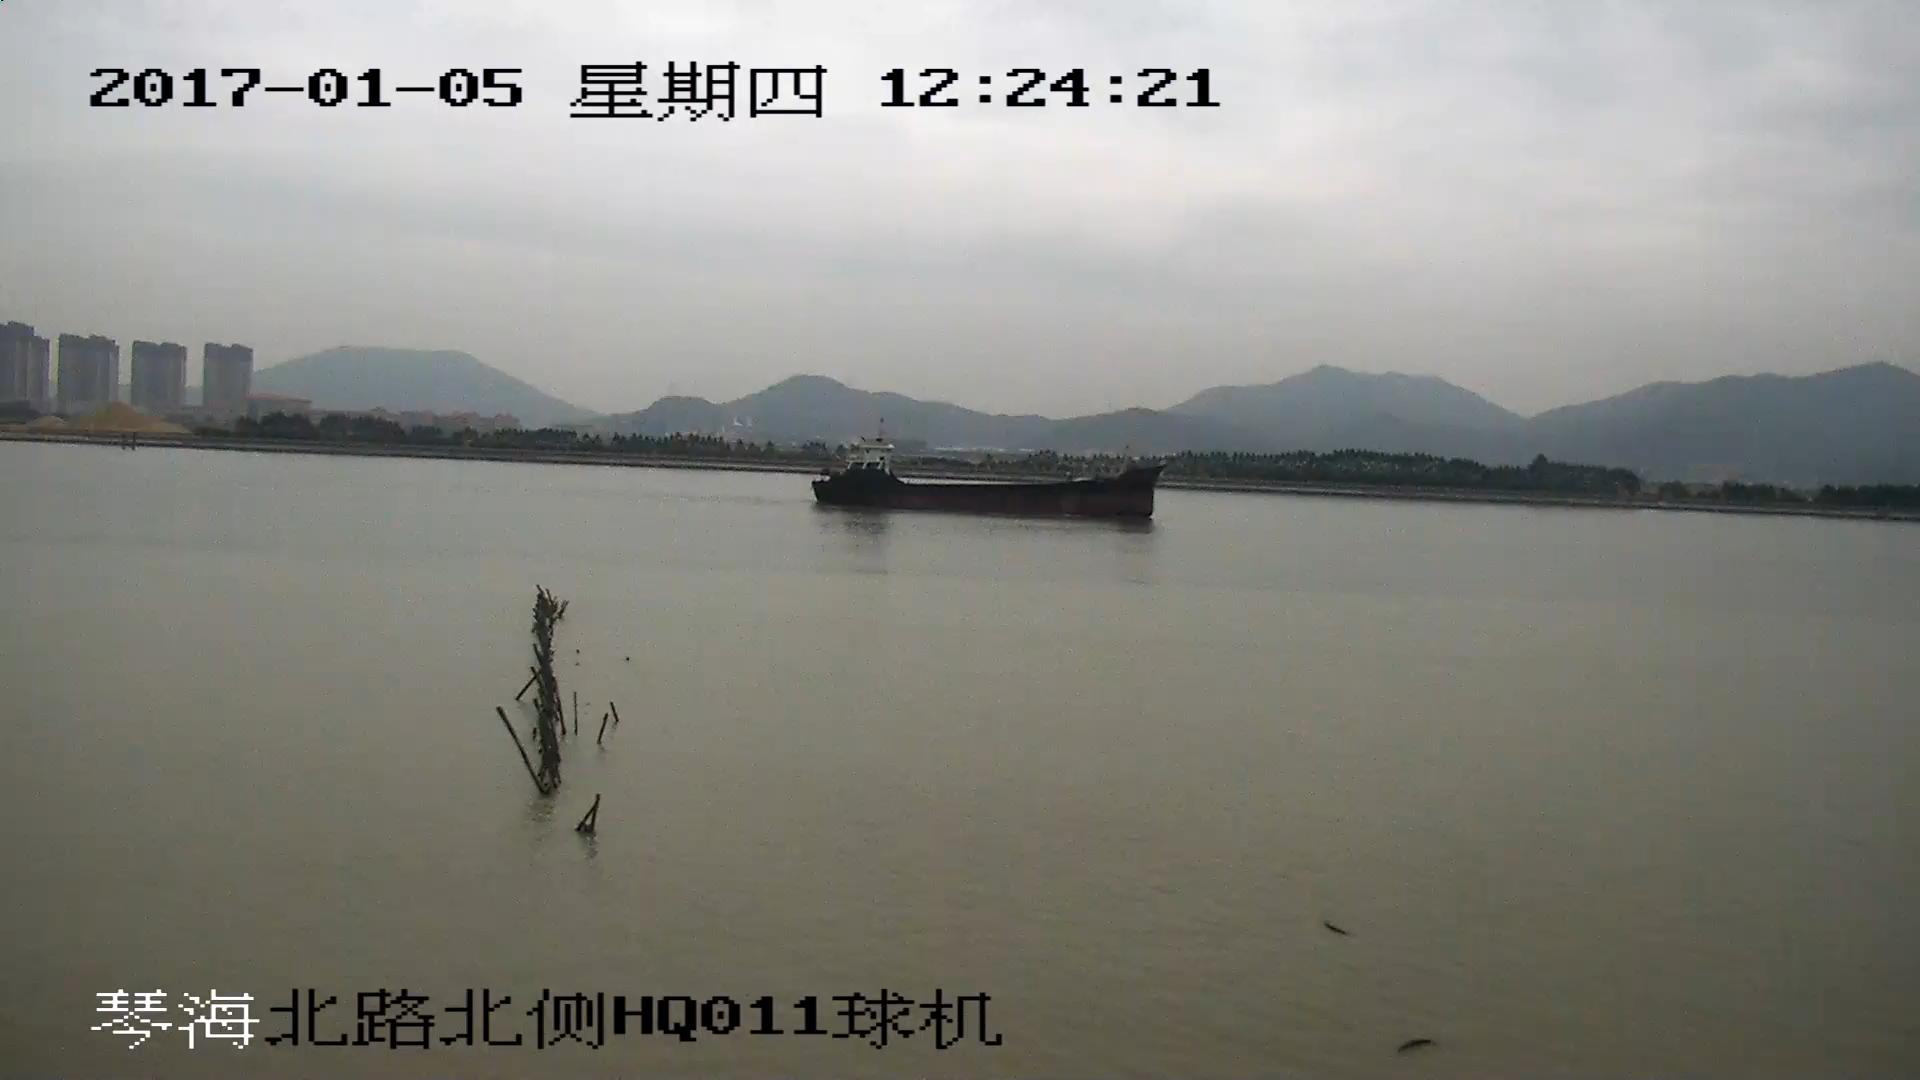general cargo ship: (812, 439, 1163, 520)
